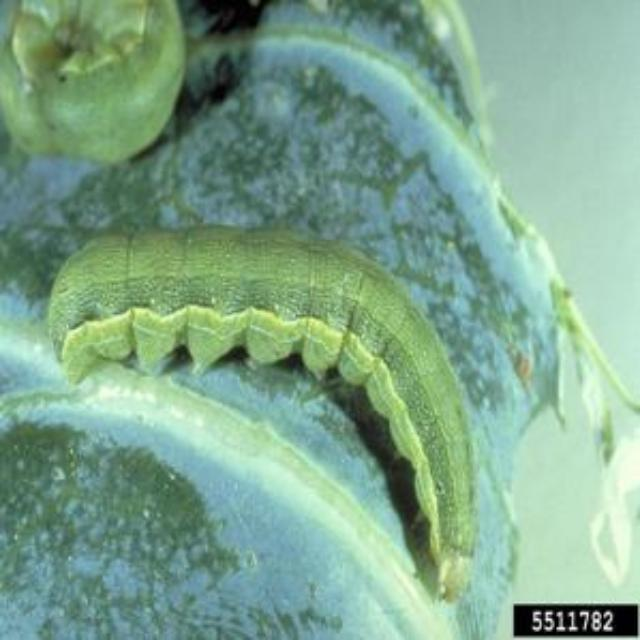Beet armyworm: (30, 213, 512, 627), (1, 0, 230, 196)
